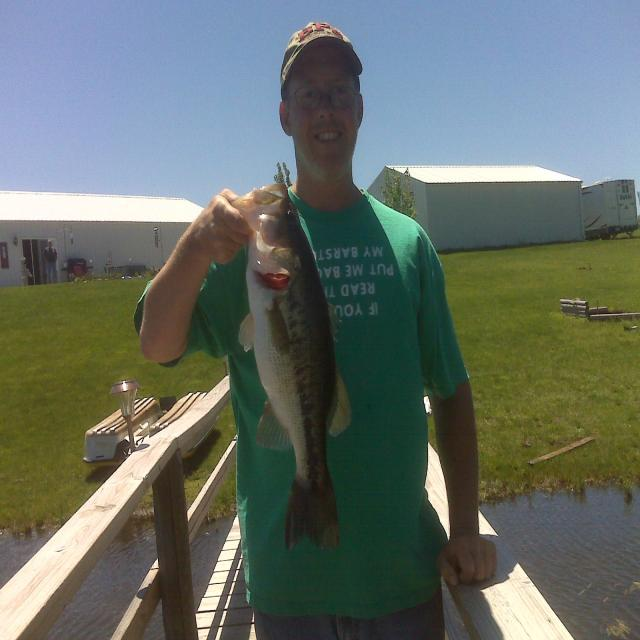Bass - Largemouth: (232, 183, 350, 548)
